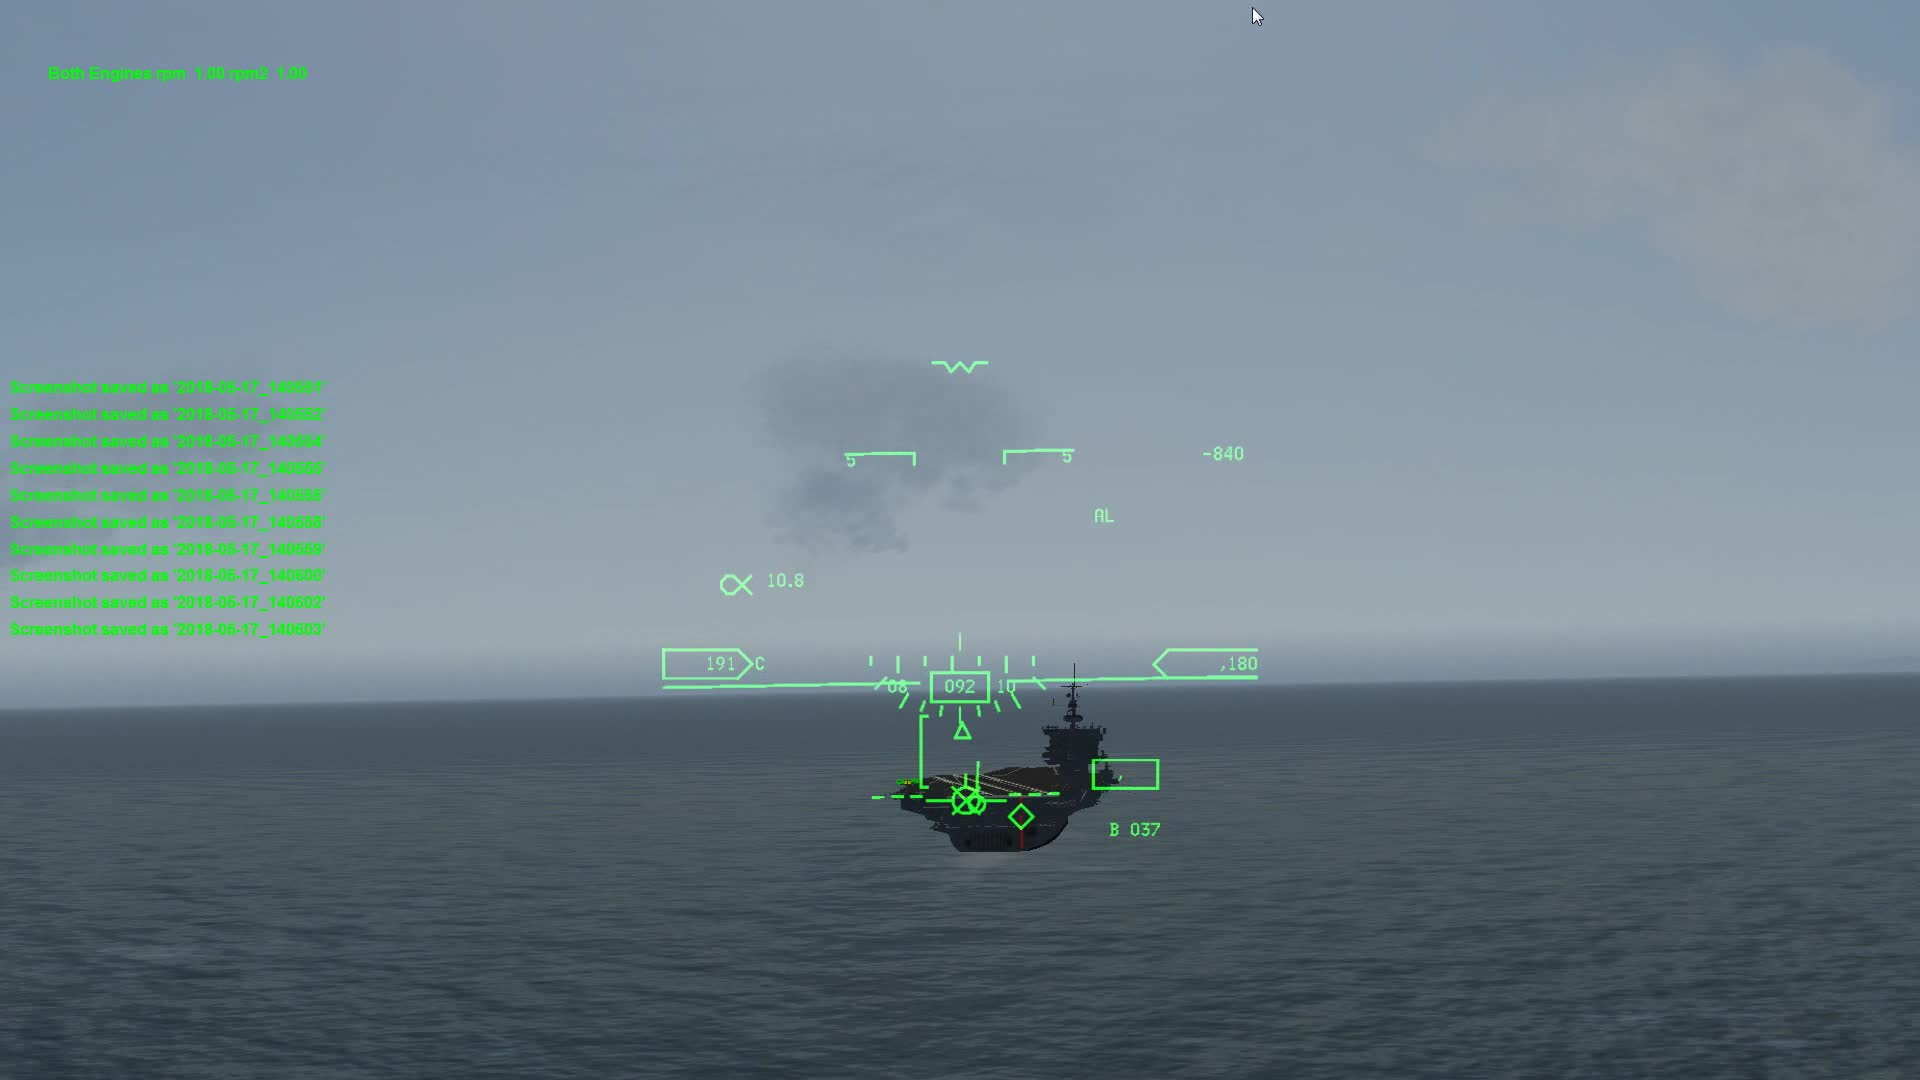speed vector: (923, 775, 1007, 829)
